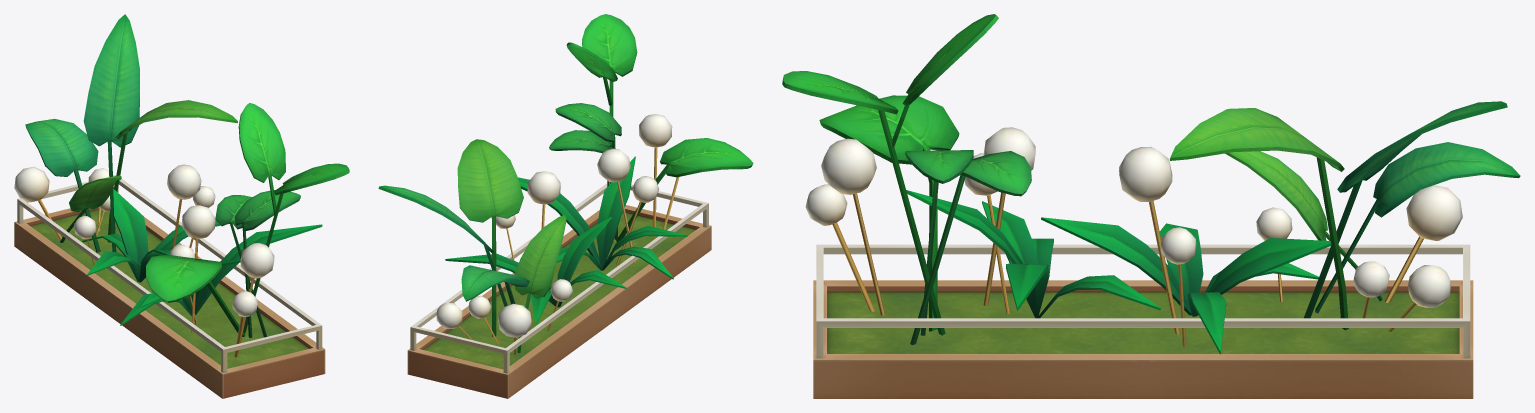
File: my_shoppingmall_01_garden_01.glb
3 renders of one model, left to right at view 1: azimuth 30°, elevation 25°; view 2: azimuth 150°, elevation 25°; view 3: azimuth 270°, elevation 25°, orthographic. The views are drawn at different scales.
Parts seen in each view (by area): view 1: my_shoppingmall_01_garden_01; view 2: my_shoppingmall_01_garden_01; view 3: my_shoppingmall_01_garden_01.
Part boxes in pixels (x1,y1,x2,y2): my_shoppingmall_01_garden_01: (14,14,349,398); my_shoppingmall_01_garden_01: (378,14,753,398); my_shoppingmall_01_garden_01: (782,14,1520,398).
Bounding box in the file's own units: 0.0114 × 0.0116 × 0.0211.
Materials: 2 (2 with a texture image).
